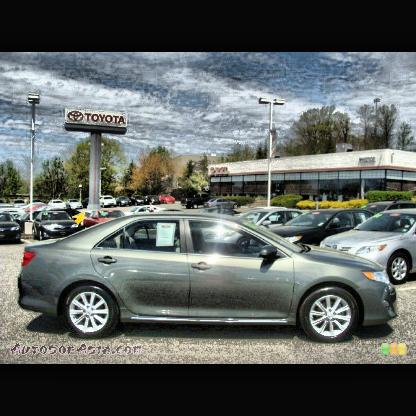Toyota Camry Sedan 2012: (18, 212, 401, 344)
